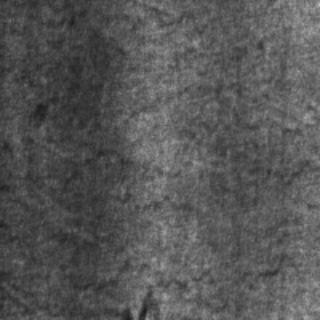crazing: (8, 75, 318, 203), (58, 232, 290, 314)
